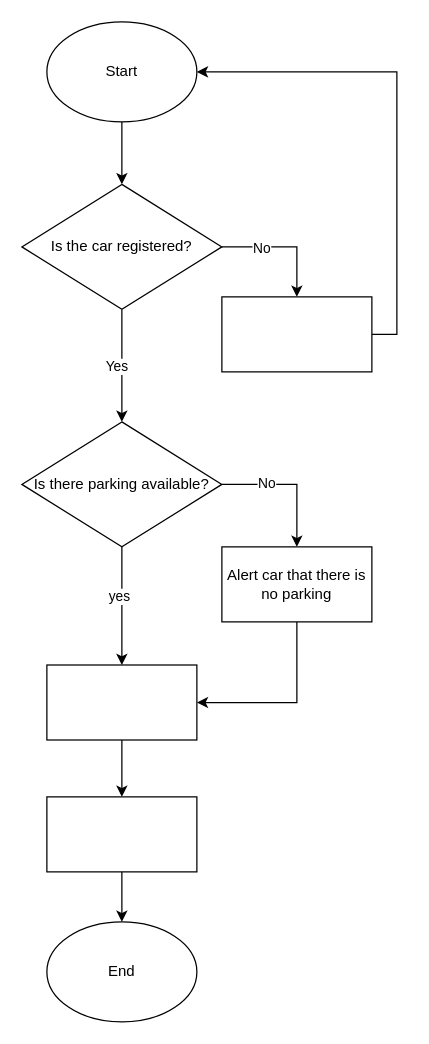
The diagram is 429 pixels wide and 1044 high, and some of its shapes have lost their labels. The shapes that lost their labels are listed below. From the top down, each one's box as (x1, y1, x2, y2) in pixels, then its label:
(221, 296, 372, 372): Do not open boom gate
(46, 664, 197, 740): Open boom gate
(46, 796, 197, 872): Counts car
